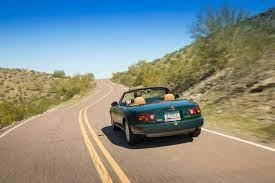car: (93, 73, 227, 165)
